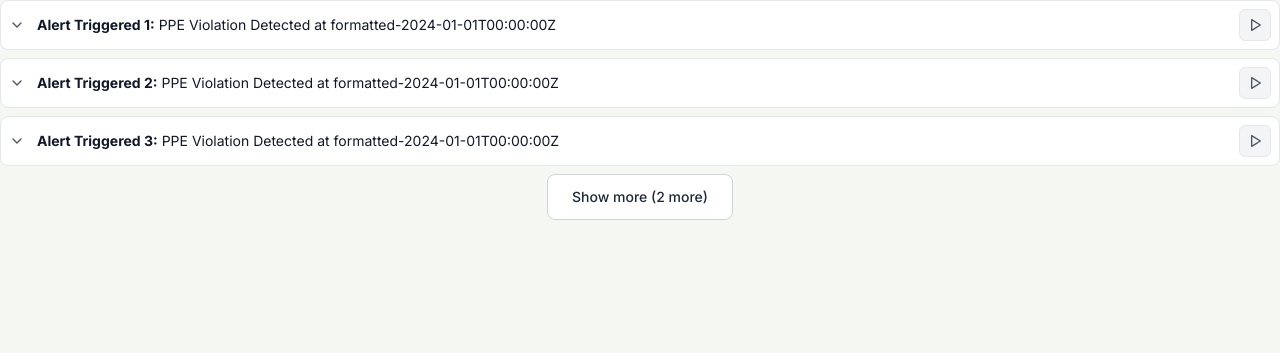
Scenario: CustomIncidents › View more / view less › shows "Show less" button after loading more
Click the button "Show more (2 more)".
click(640, 197)  # box [547,174,733,220]
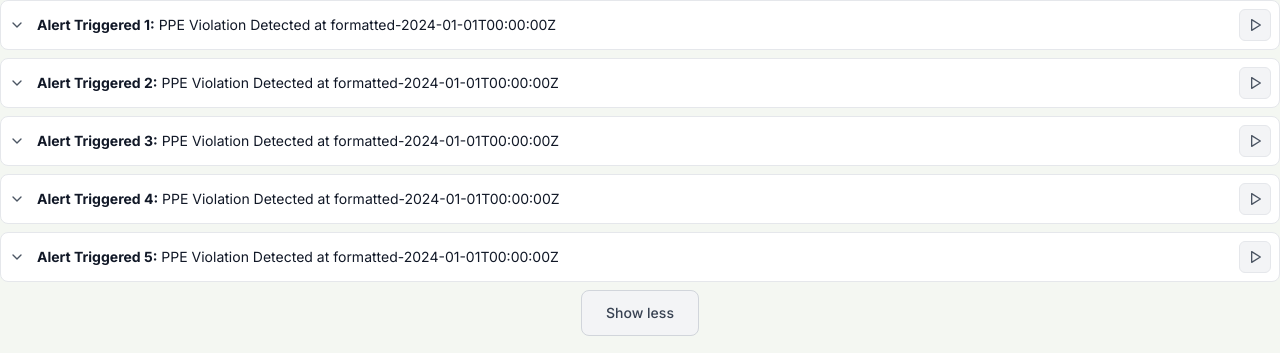
Expected: the button "Show less" is shown, [581,290,699,336]
